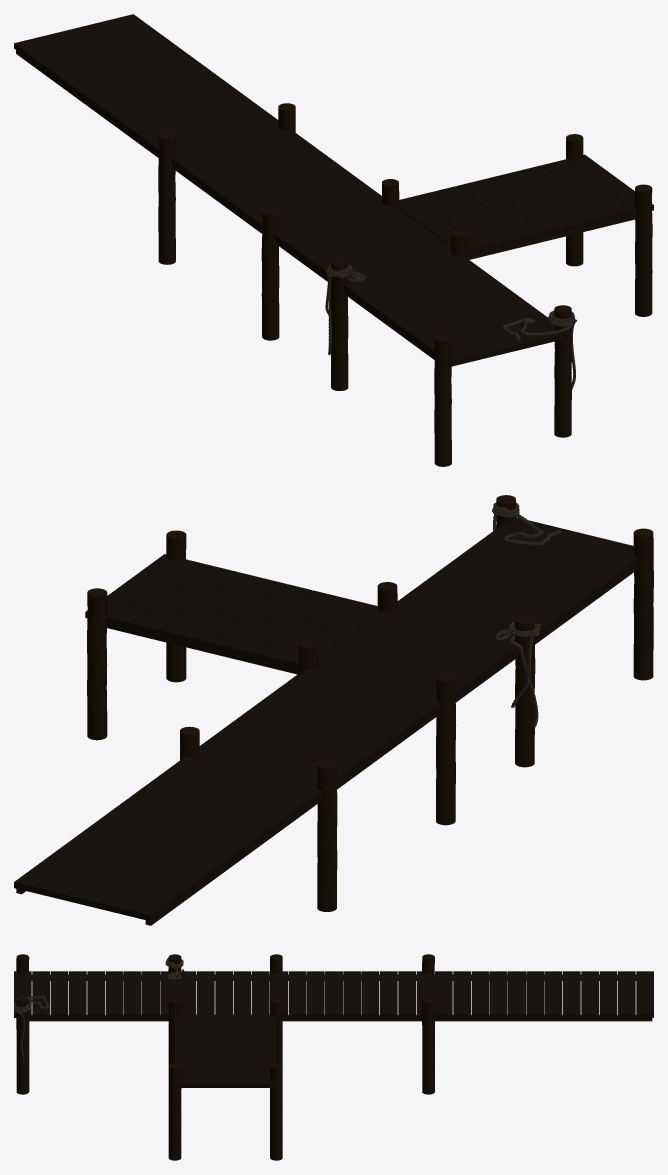
The model's file is Dock.fbx.
The picture shows the model from 3 angles, top to bottom: view 1: azimuth 30°, elevation 25°; view 2: azimuth 150°, elevation 25°; view 3: azimuth 270°, elevation 25°; orthographic projection. The views are drawn at different scales.
Visible parts, largest first — view 1: Cube, Cube.001, Cylinder, Cylinder.003, Cylinder.002, Cylinder.004, Cylinder.001, Cube.003, Cube.002, Circle, Circle.001; view 2: Cube, Cube.001, Cylinder.003, Cylinder.002, Cylinder.004, Cylinder, Cylinder.001, Cube.003, Circle.001, Cube.004, Circle; view 3: Cube, Cube.001, Cylinder.003, Cube.003, Cylinder.002, Cylinder, Cylinder.004, Cylinder.001, Circle.
Part boxes in pixels (left/top/right/bottom): Cube: left=14, top=14, right=568, bottom=366; Cube.001: left=396, top=154, right=653, bottom=255; Cylinder: left=434, top=305, right=571, bottom=466; Cylinder.003: left=566, top=134, right=652, bottom=316; Cylinder.002: left=158, top=103, right=295, bottom=264; Cylinder.004: left=261, top=179, right=399, bottom=340; Cylinder.001: left=330, top=229, right=468, bottom=390; Cube.003: left=16, top=50, right=434, bottom=359; Cube.002: left=468, top=214, right=635, bottom=259; Circle: left=502, top=310, right=576, bottom=389; Circle.001: left=325, top=264, right=365, bottom=355; Cube: left=14, top=517, right=638, bottom=921; Cube.001: left=85, top=554, right=381, bottom=669; Cylinder.003: left=87, top=530, right=186, bottom=740; Cylinder.002: left=180, top=726, right=337, bottom=911; Cylinder.004: left=298, top=640, right=456, bottom=825; Cylinder: left=496, top=495, right=653, bottom=680; Cylinder.001: left=377, top=582, right=535, bottom=767; Cube.003: left=16, top=566, right=637, bottom=925; Circle.001: left=495, top=621, right=541, bottom=727; Cube.004: left=106, top=623, right=298, bottom=674; Circle: left=492, top=502, right=561, bottom=545; Cube: left=14, top=971, right=653, bottom=1017; Cube.001: left=175, top=1014, right=276, bottom=1087; Cylinder.003: left=168, top=1063, right=282, bottom=1160; Cube.003: left=29, top=974, right=652, bottom=1021; Cylinder.002: left=422, top=954, right=434, bottom=1094; Cylinder: left=16, top=954, right=29, bottom=1094; Cylinder.004: left=270, top=954, right=282, bottom=1064; Cylinder.001: left=168, top=954, right=181, bottom=1087; Circle: left=14, top=995, right=49, bottom=1063.
Bounding box in the file's own units: 547 × 200 × 1262.
